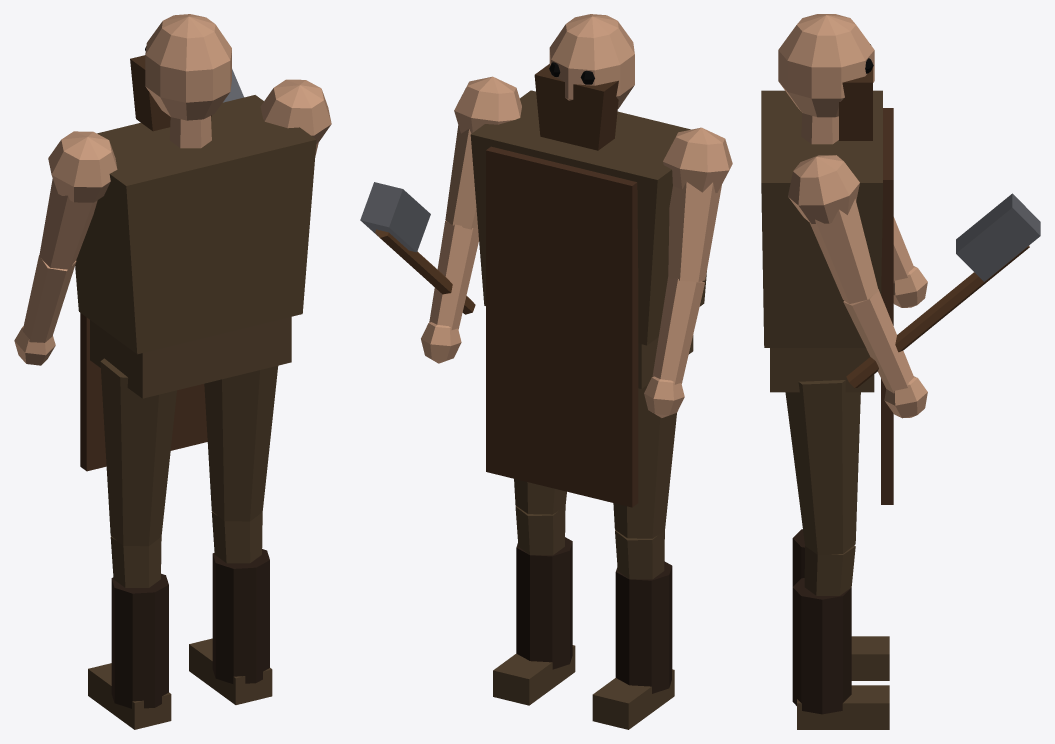
The model's file is npc_smith.glb.
3 renders of one model, left to right at view 1: azimuth 30°, elevation 25°; view 2: azimuth 150°, elevation 25°; view 3: azimuth 270°, elevation 25°, orthographic.
Visible parts, largest first — view 1: torso, leg_l, leg_r, arm_l, head, arm_r; view 2: torso, leg_l, leg_r, arm_l, head, arm_r, weapon; view 3: torso, leg_r, arm_r, head, weapon, leg_l, arm_l.
Part boxes in pixels (x1,y1,x2,y2): torso: [75, 95, 316, 471]; leg_l: [88, 358, 176, 729]; leg_r: [189, 366, 278, 704]; arm_l: [14, 131, 117, 365]; head: [130, 14, 231, 148]; arm_r: [260, 79, 331, 155]; torso: [470, 90, 706, 507]; leg_l: [592, 385, 676, 729]; leg_r: [493, 479, 575, 705]; arm_l: [644, 127, 732, 417]; head: [534, 14, 634, 150]; arm_r: [421, 76, 521, 363]; weapon: [360, 182, 475, 314]; torso: [761, 90, 893, 504]; leg_r: [785, 380, 889, 729]; arm_r: [788, 155, 927, 418]; head: [778, 14, 874, 144]; weapon: [846, 193, 1040, 387]; leg_l: [792, 529, 889, 680]; arm_l: [893, 217, 927, 307].
Size of the model in its own units: 0.7734 by 1.83 by 0.6805.
